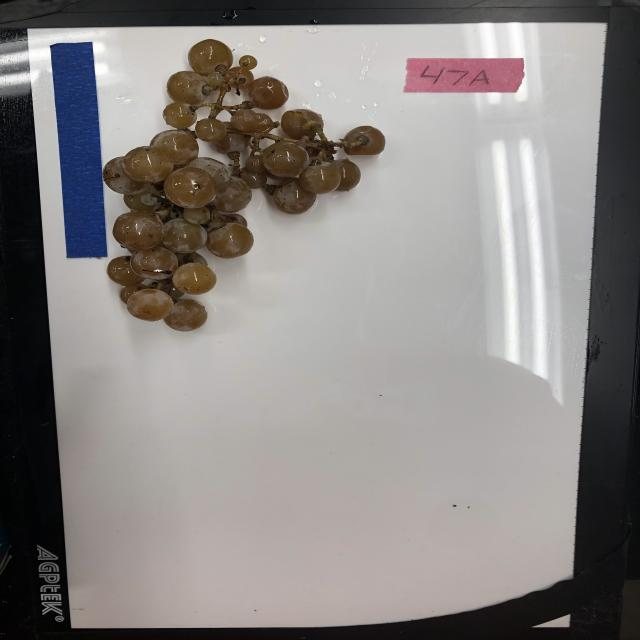grape_cluster: (98, 35, 388, 339)
index: (402, 54, 528, 96)
measure_label: (49, 38, 110, 262)
